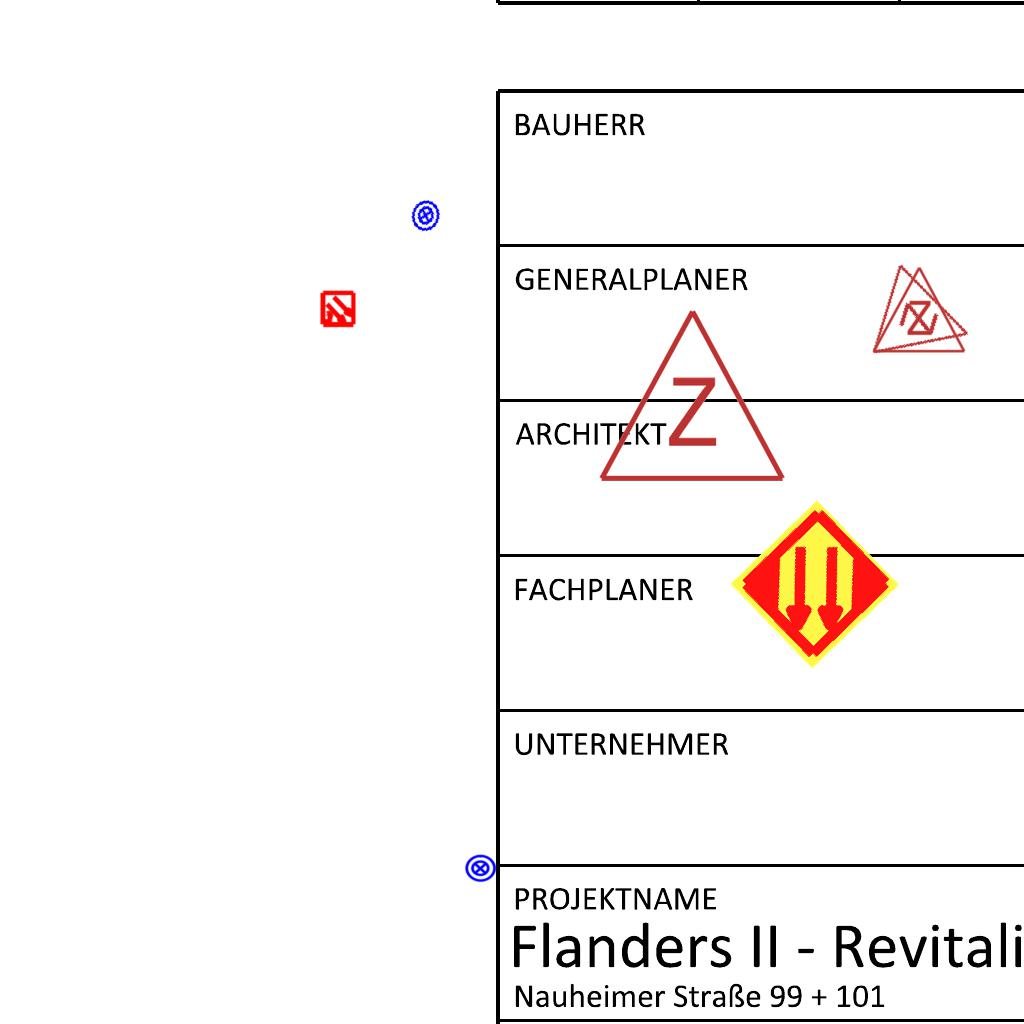ASR_Ansaugrauchmelder: (726, 496, 903, 673)
OT_Multisensormelder_(Kombination_RMO_WMD): (310, 282, 366, 338)
Taster_beleuchtet: (405, 195, 446, 236), (464, 852, 497, 885)
Zimmersignalleuchte: (592, 296, 788, 496), (864, 258, 990, 382), (869, 260, 967, 360)
